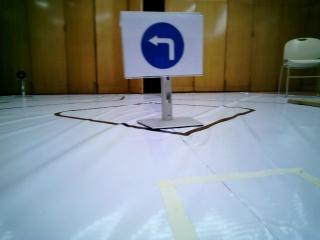left: (125, 13, 200, 73)
